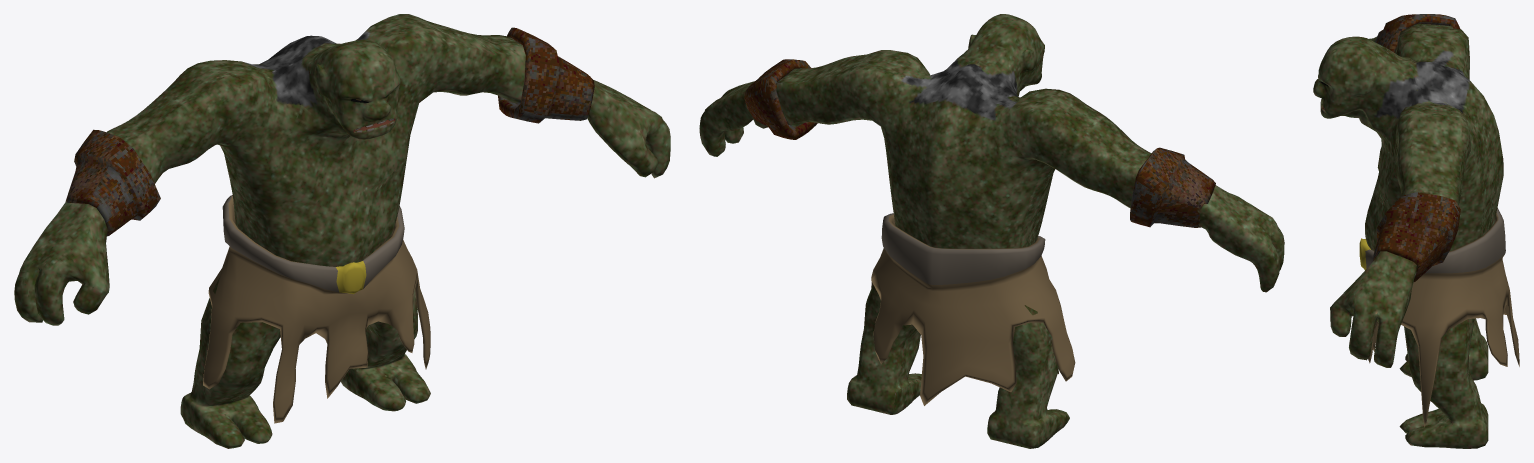
Rendered from ogre uni game.fbx.
3 renders of one model, left to right at view 1: azimuth 30°, elevation 25°; view 2: azimuth 150°, elevation 25°; view 3: azimuth 270°, elevation 25°, orthographic. The views are drawn at different scales.
Parts seen in each view (by area): view 1: polySurface4.001, polySurface3, polySurface6.001; view 2: polySurface4.001, polySurface3, polySurface6.001; view 3: polySurface4.001, polySurface3, polySurface6.001.
Boxes of the visible parts, bbox=[...] form: polySurface4.001: bbox=[14, 14, 670, 448]; polySurface3: bbox=[203, 195, 430, 423]; polySurface6.001: bbox=[65, 27, 594, 236]; polySurface4.001: bbox=[699, 14, 1284, 448]; polySurface3: bbox=[871, 213, 1075, 405]; polySurface6.001: bbox=[744, 59, 1215, 227]; polySurface4.001: bbox=[1313, 23, 1503, 448]; polySurface3: bbox=[1359, 208, 1519, 427]; polySurface6.001: bbox=[1373, 14, 1460, 281].
Size of the model in its own units: 484 by 290 by 150.
